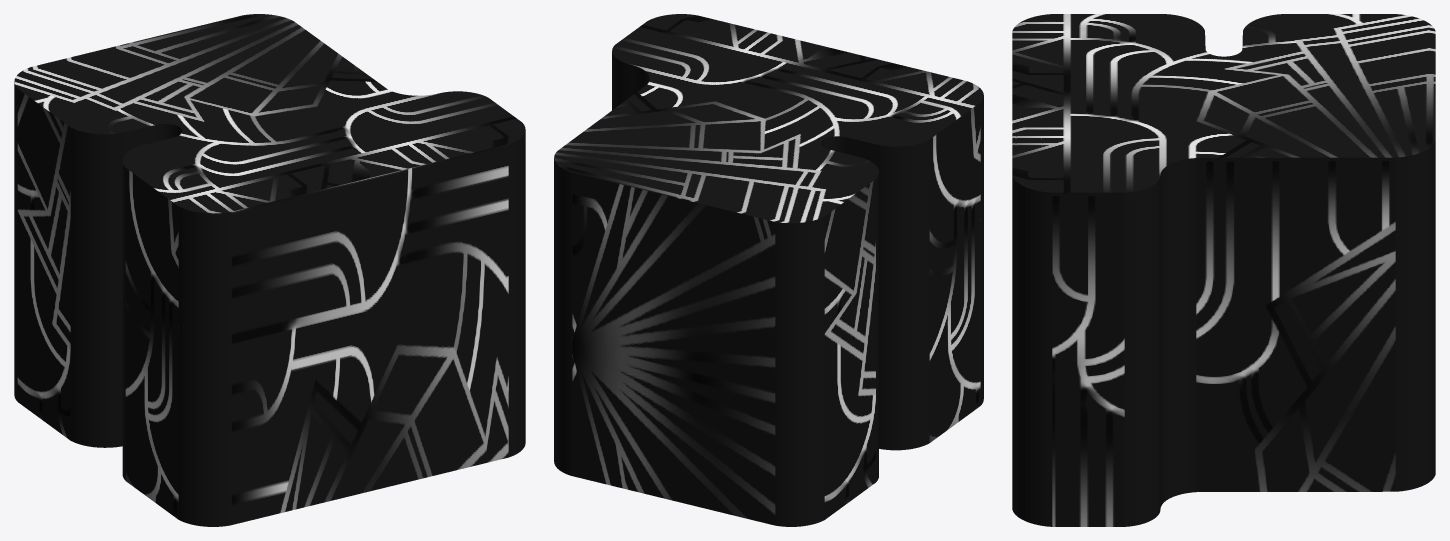
The model's file is Maison2.glb.
3 renders of one model, left to right at view 1: azimuth 30°, elevation 25°; view 2: azimuth 150°, elevation 25°; view 3: azimuth 270°, elevation 25°, orthographic. The views are drawn at different scales.
Parts seen in each view (by area): view 1: BAT2; view 2: BAT2; view 3: BAT2.
Boxes of the visible parts, <box> form: BAT2: <box>14,14,525,526</box>; BAT2: <box>554,14,983,526</box>; BAT2: <box>1012,14,1435,526</box>.
Size of the model in its own units: 0.4183 by 0.3645 by 0.4182.
Materials: 2 (1 with a texture image).
